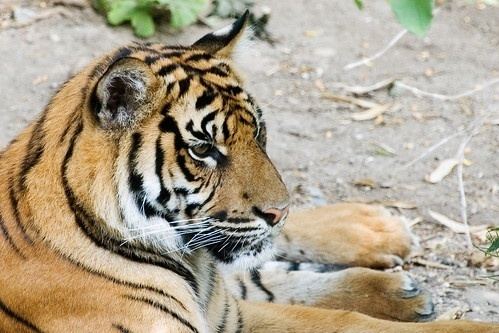tigre: (1, 6, 428, 333)
